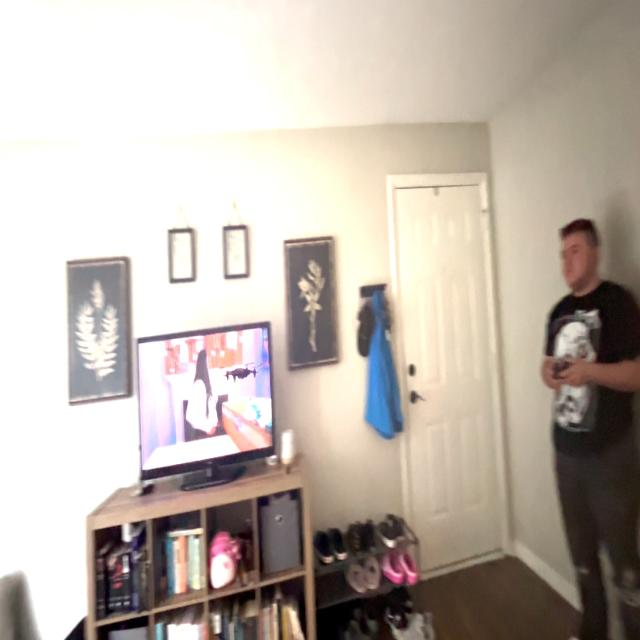drone: (216, 354, 266, 397)
